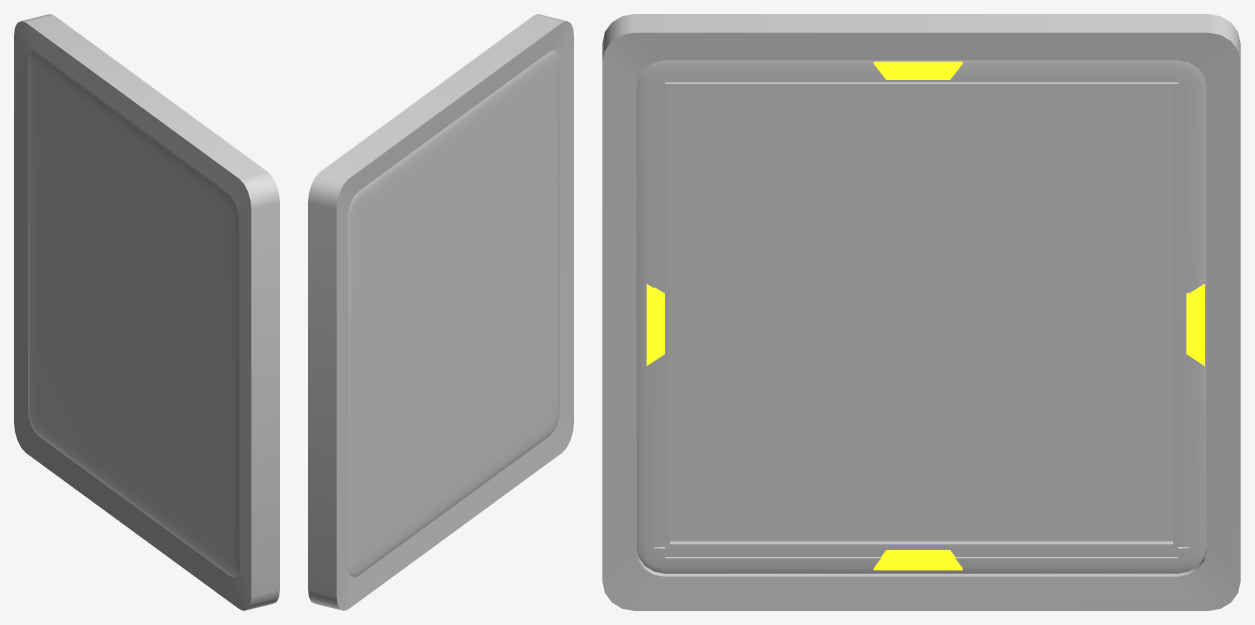
Rendered from 攜帶式鏡子.fbx.
3 views of the same model, side by side, from view 1: azimuth 30°, elevation 25°; view 2: azimuth 150°, elevation 25°; view 3: azimuth 270°, elevation 25° (orthographic). The views are drawn at different scales.
Visible parts, largest first — view 1: Cube.001; view 2: Cube.001; view 3: Cube.001.
Boxes of the visible parts, box(x1,y1,x2,y2) form: Cube.001: box(14, 14, 279, 610); Cube.001: box(308, 14, 573, 610); Cube.001: box(602, 14, 1240, 610).
Bounding box in the file's own units: 15.57 × 224 × 224.
